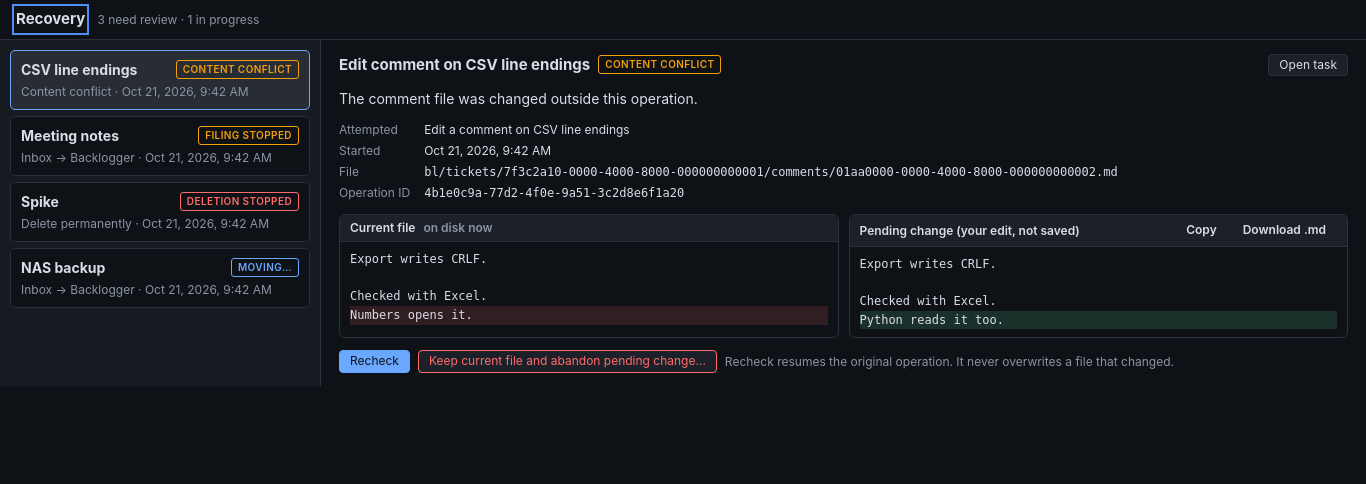
it: RecoveryPage › a stale review aborts the abandon with a focused notice and shows the new current file
This screenshot has width=1366, height=484.
Click the button "Keep current file and abandon pending change…": (567, 362) [418,350,717,373]
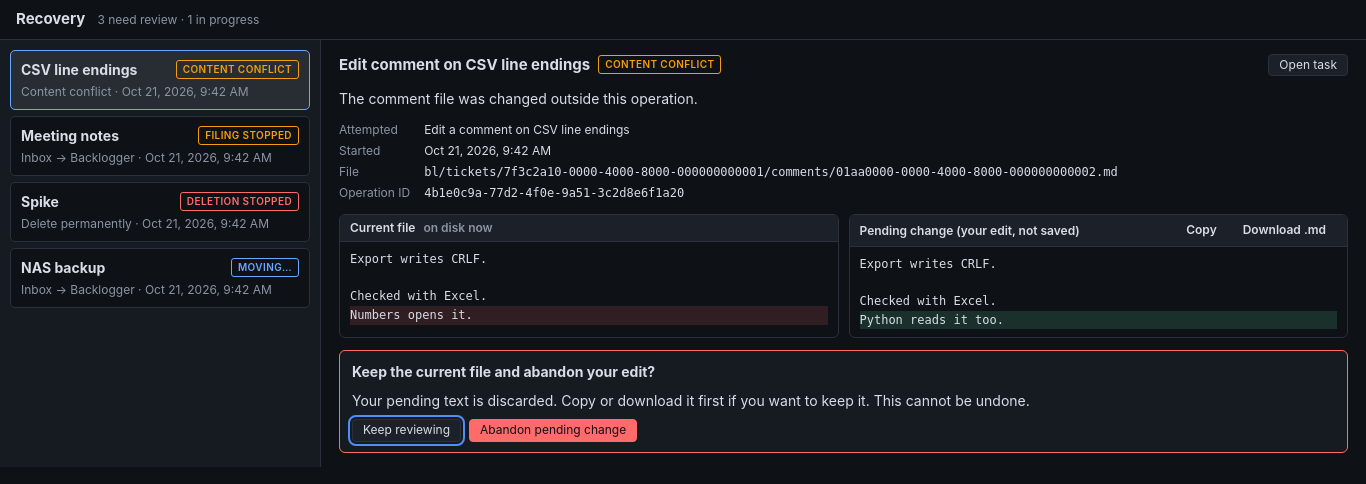
Click the button "Abandon pending change": (553, 431) [469,420,637,442]
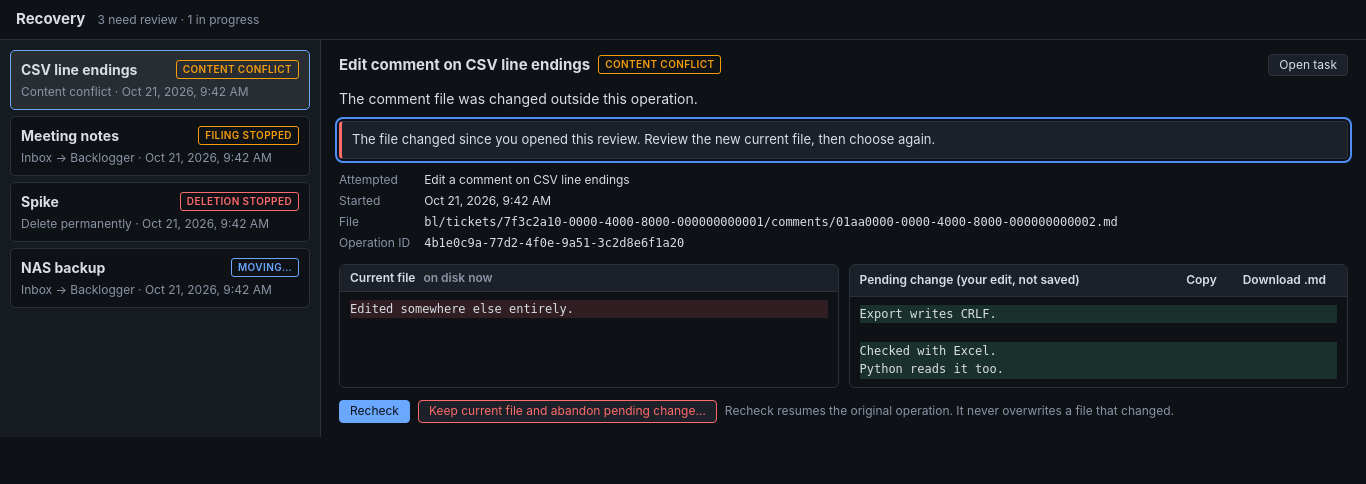
Check: the text "Edited somewhere else entirely." is shown, box [350,300,828,318]
Check: the button "Recheck" is shown, box [339,400,410,423]
